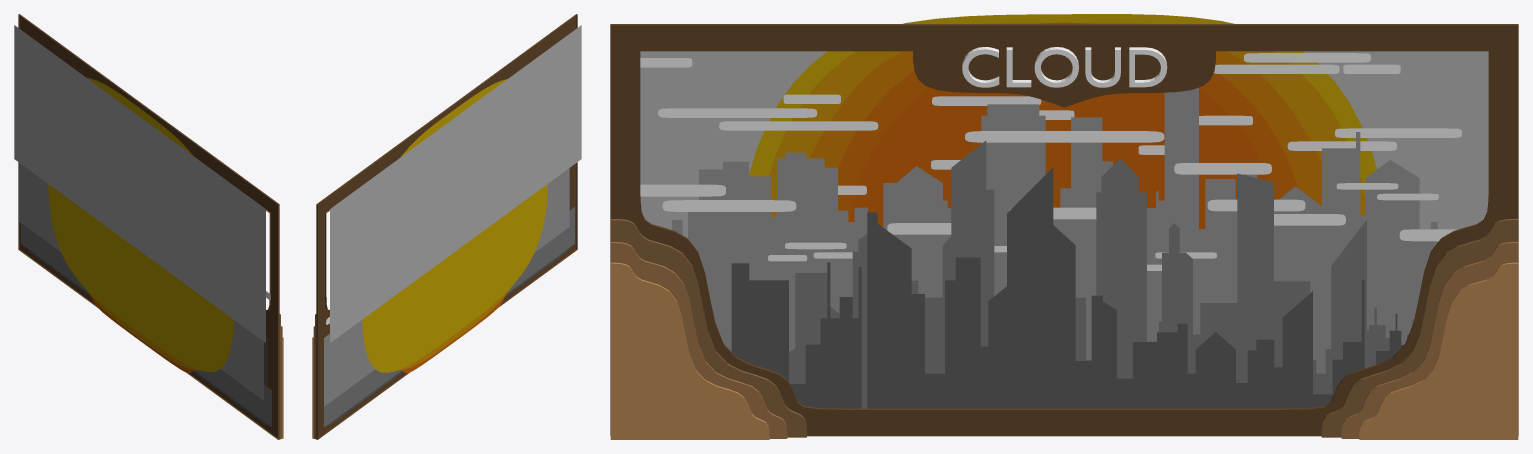
Rendered from Cloud_scene.glb.
3 views of the same model, side by side, from view 1: azimuth 30°, elevation 25°; view 2: azimuth 150°, elevation 25°; view 3: azimuth 270°, elevation 25° (orthographic). The views are drawn at different scales.
Parts seen in each view (by area): view 1: CloudSky, Sunset.004, CloudWoodFront, CityBack, CityMiddle, CityFront, Sunset.003, Sunset.001; view 2: CloudSky, Sunset.004, CloudWoodFront, CityBack, CityMiddle, Sunset.003, CityFront, Sunset.001; view 3: CloudWoodFront, CityBack, CityFront, CityMiddle, CloudSky, Sunset, CloudWoodOrnement3R, CloudWoodOrnement3L, CloudsBack, CloudsFront, Sunset.002, Sunset.003 (+7 smaller).
Part boxes in pixels (x1,y1,x2,y2): CloudSky: [14, 25, 265, 342]; Sunset.004: [48, 77, 233, 371]; CloudWoodFront: [18, 14, 279, 439]; CityBack: [18, 162, 263, 400]; CityMiddle: [21, 223, 271, 427]; CityFront: [28, 249, 267, 426]; Sunset.003: [85, 288, 200, 370]; Sunset.001: [91, 296, 193, 372]; CloudSky: [330, 25, 581, 342]; Sunset.004: [362, 79, 547, 372]; CloudWoodFront: [316, 14, 577, 439]; CityBack: [324, 168, 569, 406]; CityMiddle: [324, 207, 574, 427]; Sunset.003: [398, 285, 512, 370]; CityFront: [328, 249, 567, 426]; Sunset.001: [402, 296, 504, 372]; CloudWoodFront: [610, 24, 1518, 436]; CityBack: [672, 87, 1437, 373]; CityFront: [731, 167, 1408, 408]; CityMiddle: [789, 140, 1413, 408]; CloudSky: [640, 51, 1488, 242]; Sunset: [850, 88, 1274, 228]; CloudWoodOrnement3R: [1359, 262, 1518, 439]; CloudWoodOrnement3L: [610, 262, 769, 439]; CloudsBack: [640, 53, 1461, 194]; CloudsFront: [640, 131, 1457, 270]; Sunset.002: [810, 51, 1321, 205]; Sunset.003: [769, 22, 1365, 216].
Bounding box in the file's own units: 0.0914 × 1.51 × 3.
